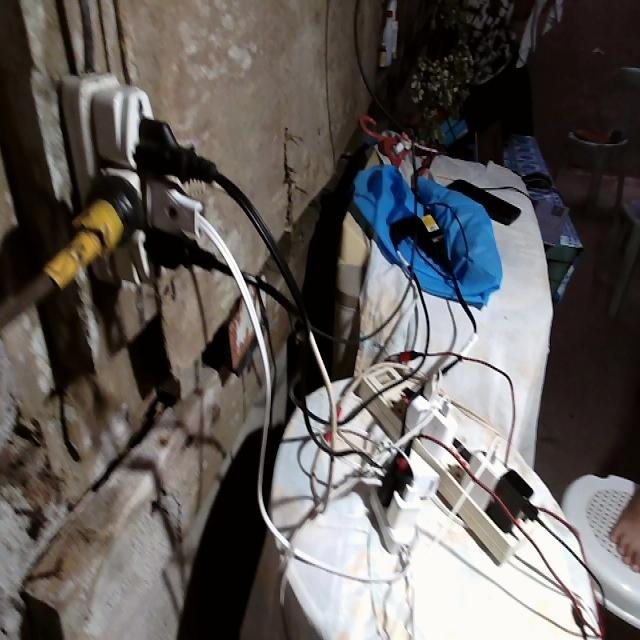-: (55, 65, 206, 294)
